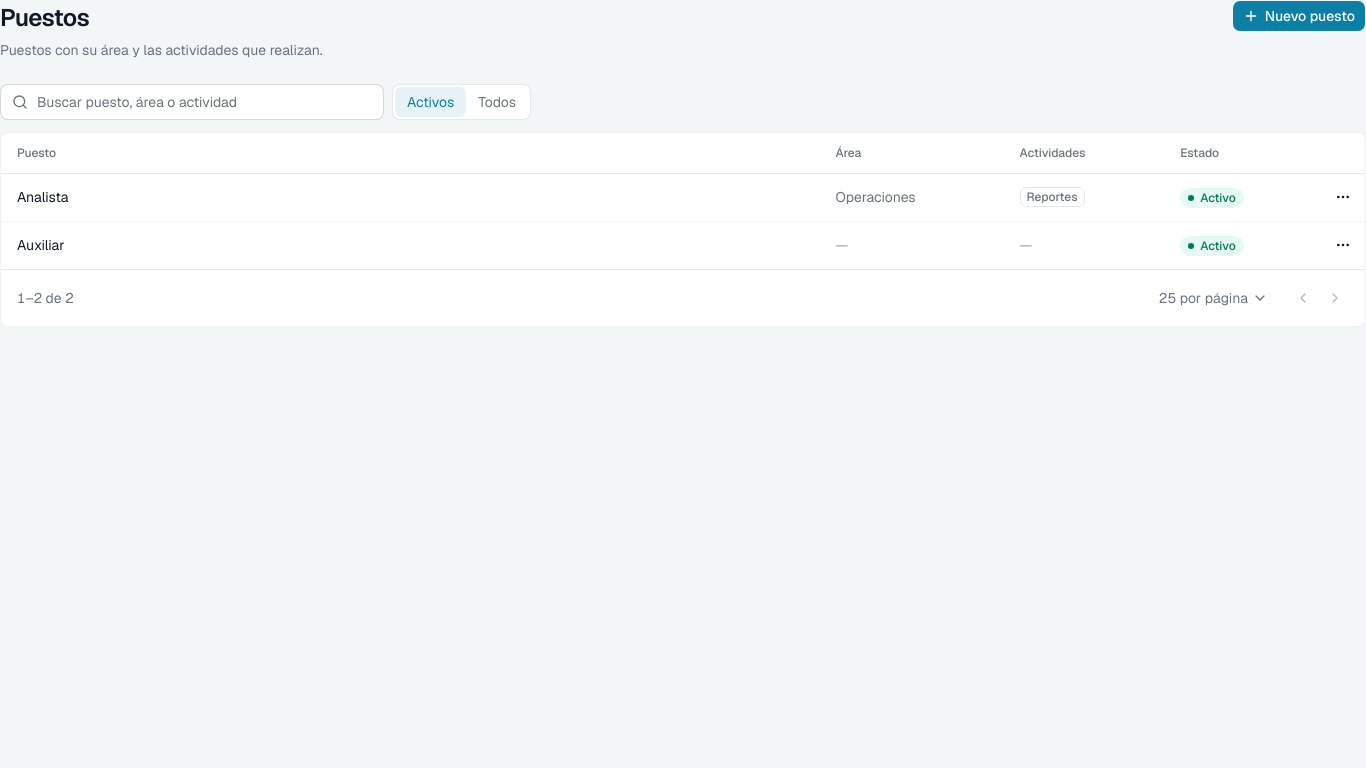
Test: CatalogPage › opens an empty sheet from «Nuevo puesto»
Click the button "Nuevo puesto" at (1299, 16), box [1232, 0, 1365, 32]
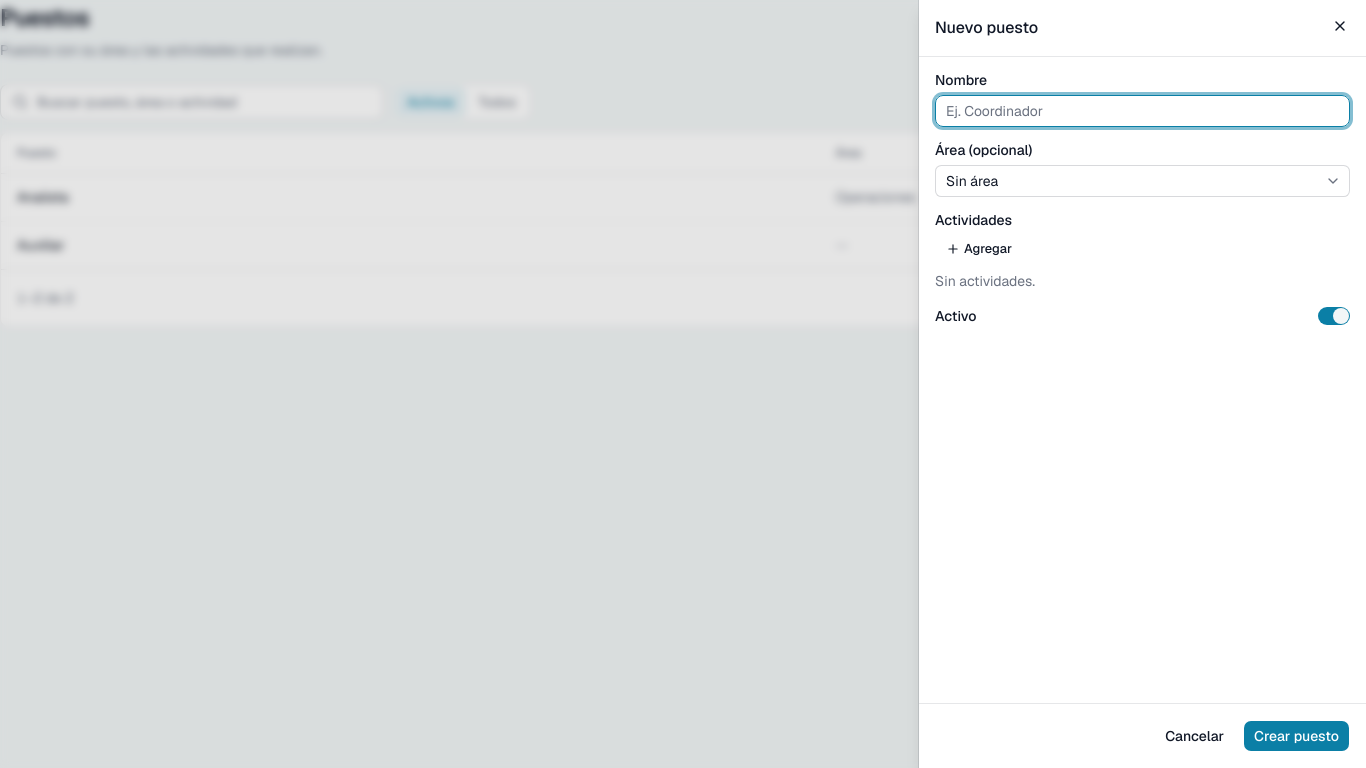
Check: the field labelled "Nombre" is empty, box [935, 95, 1350, 127]
Check: the button "Crear puesto" is shown, box [1243, 720, 1350, 752]
